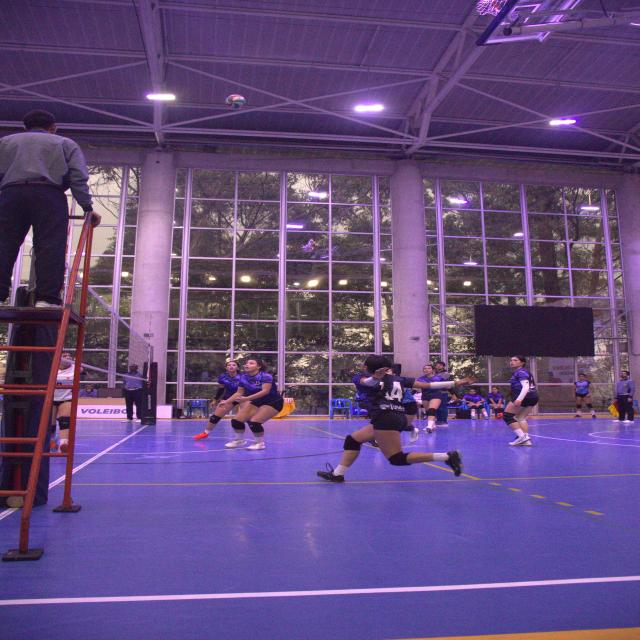volleyball: (226, 94, 246, 110)
